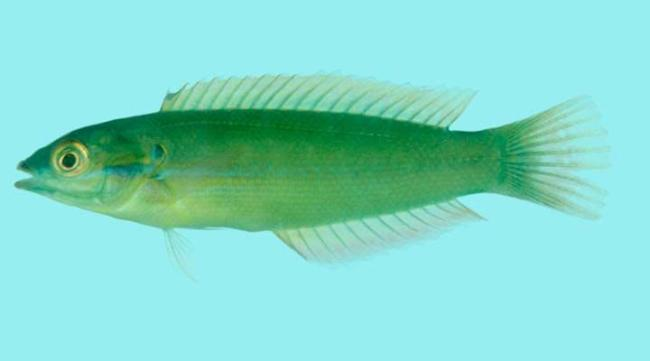fish: (14, 70, 611, 283)
